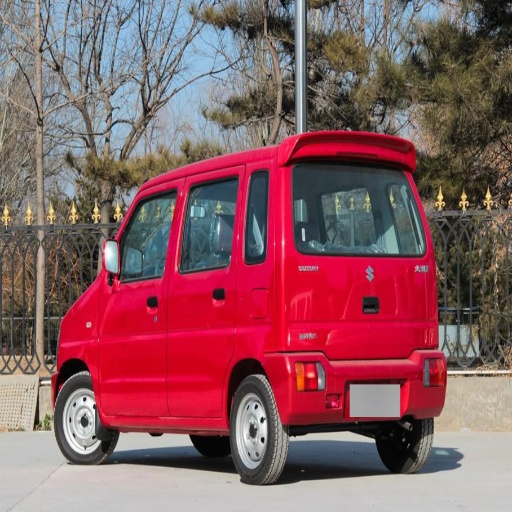back_bumper: (284, 350, 445, 427)
back_glass: (308, 176, 416, 254)
trunk: (241, 246, 431, 395)
